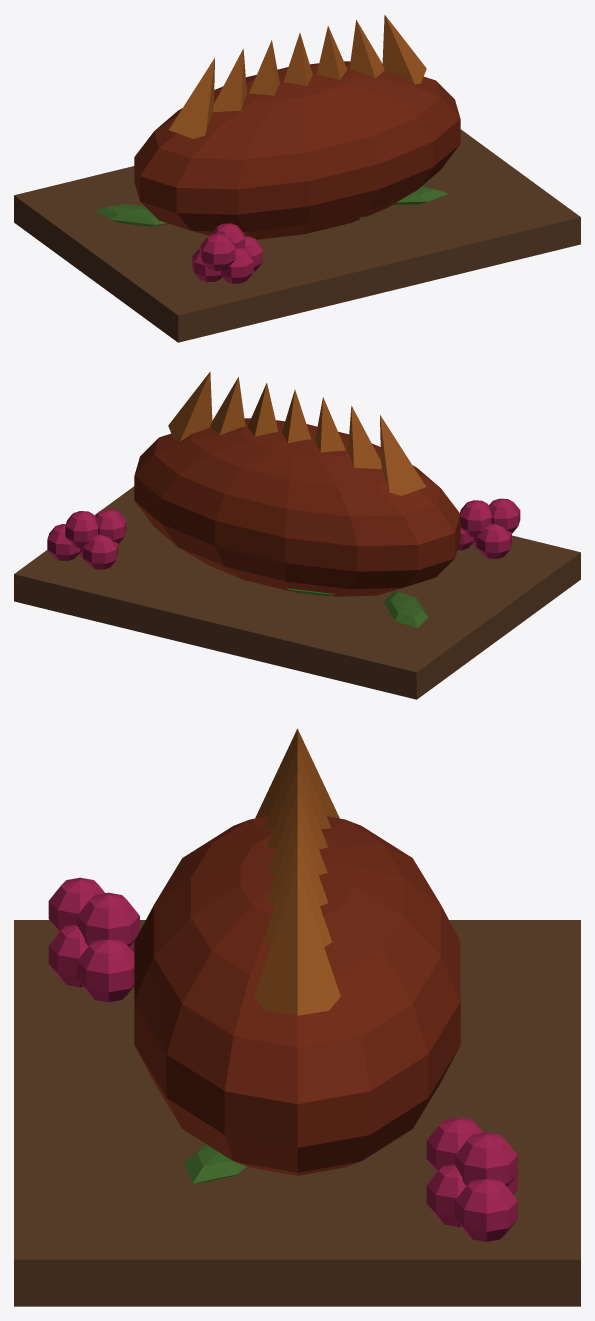
File: VFP_Food_AsksvinFireRoast.obj
3 views of the same model, one above another, from view 1: azimuth 30°, elevation 25°; view 2: azimuth 150°, elevation 25°; view 3: azimuth 270°, elevation 25° (orthographic). The views are drawn at different scales.
Parts seen in each view (by area): view 1: Board, Roast, Roast_meat_glaze, Berries, Leaves; view 2: Board, Roast, Roast_meat_glaze, Berries, Leaves; view 3: Board, Roast, Berries, Roast_meat_glaze, Leaves.
Boxes of the visible parts, <box> form: Board: <box>14,129,580,342</box>; Roast: <box>134,61,460,239</box>; Roast_meat_glaze: <box>169,15,426,138</box>; Berries: <box>192,223,262,283</box>; Leaves: <box>94,186,448,226</box>; Board: <box>14,486,580,699</box>; Roast: <box>134,418,460,596</box>; Roast_meat_glaze: <box>168,372,425,495</box>; Berries: <box>47,498,520,569</box>; Leaves: <box>286,588,428,628</box>; Board: <box>14,920,580,1306</box>; Roast: <box>134,816,460,1175</box>; Berries: <box>48,877,517,1241</box>; Roast_meat_glaze: <box>254,728,340,1015</box>; Leaves: <box>184,1144,246,1183</box>.
Size of the model in its own units: 0.34 by 0.162 by 0.24.
